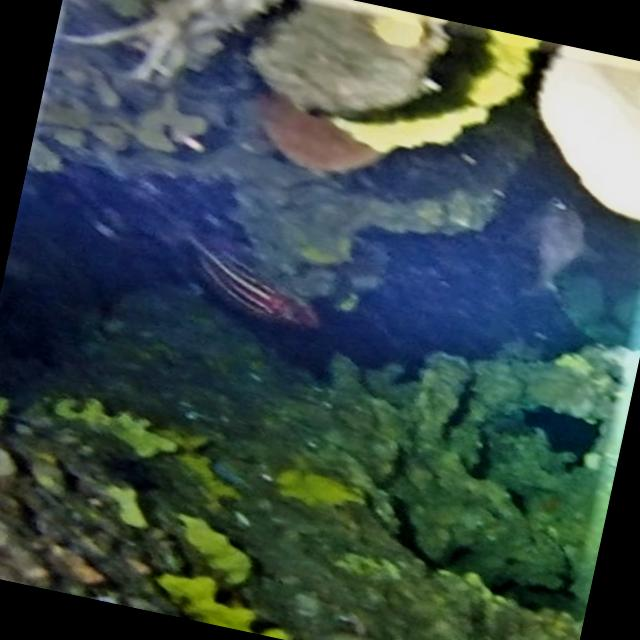Asker Baligi: (143, 214, 327, 349)
